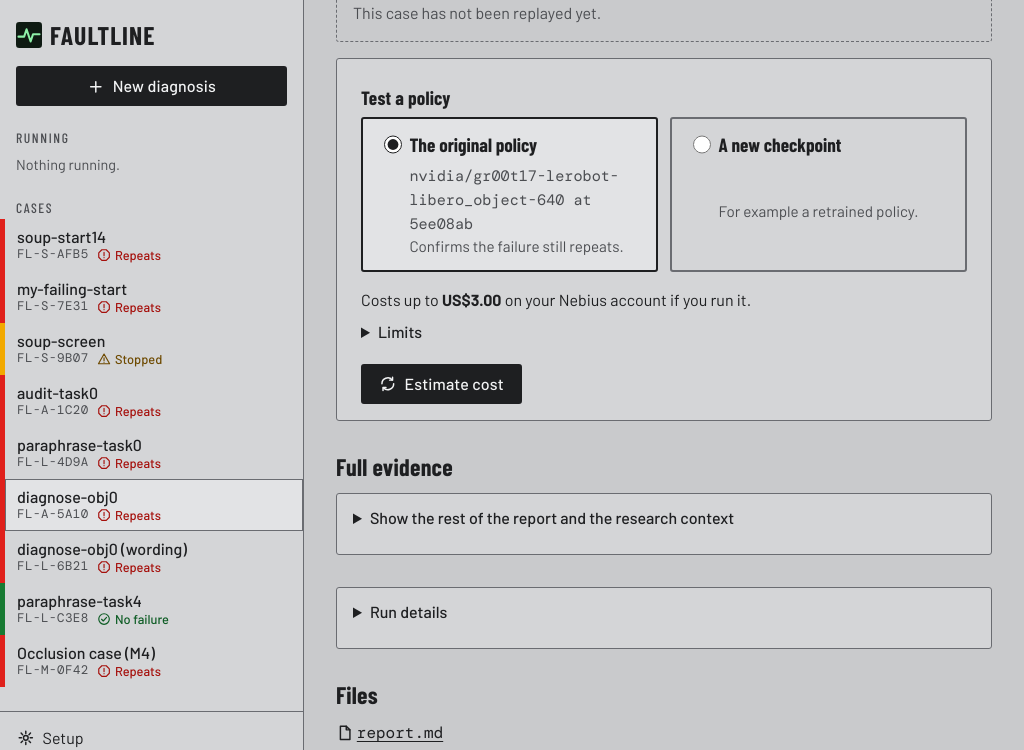
it: replay of an audit case and a wording case › plans the replay for the case: every dry run names it, and the review lists the case Jobs
The width and height of the screenshot is (1024, 750).
(page scrolled)
What coordinates should you click on to do the following:
click the button "Estimate cost"
I would click on:
 (441, 384)
Its box is [361,364,522,404].
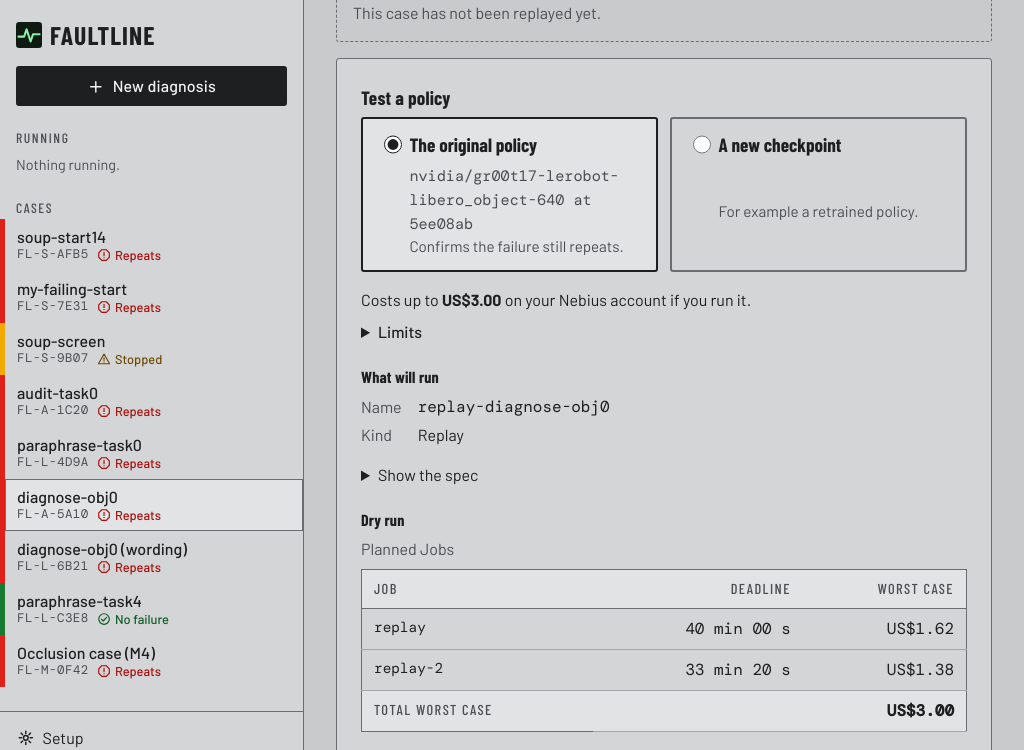
Result: the column heading "Total worst case" is shown at [362,690,593,731]
Result: the text "replay-2" is shown at [362,649,593,690]
